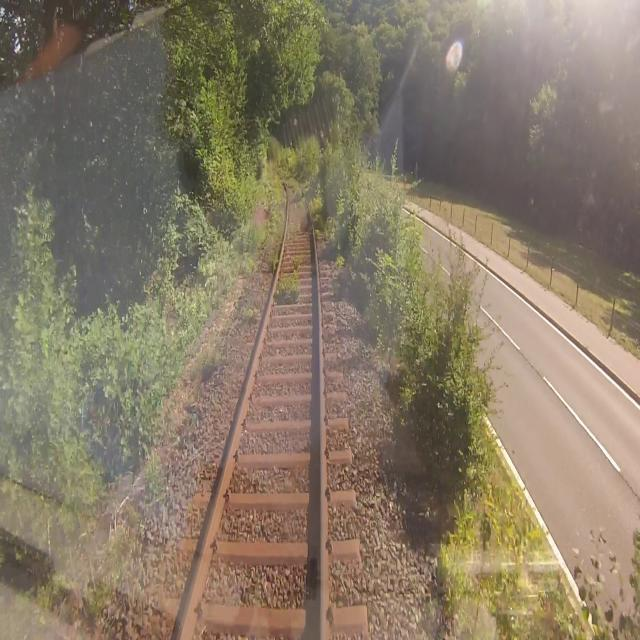Plant: (310, 199, 347, 277), (271, 251, 304, 307), (262, 211, 286, 281), (243, 299, 262, 324)
